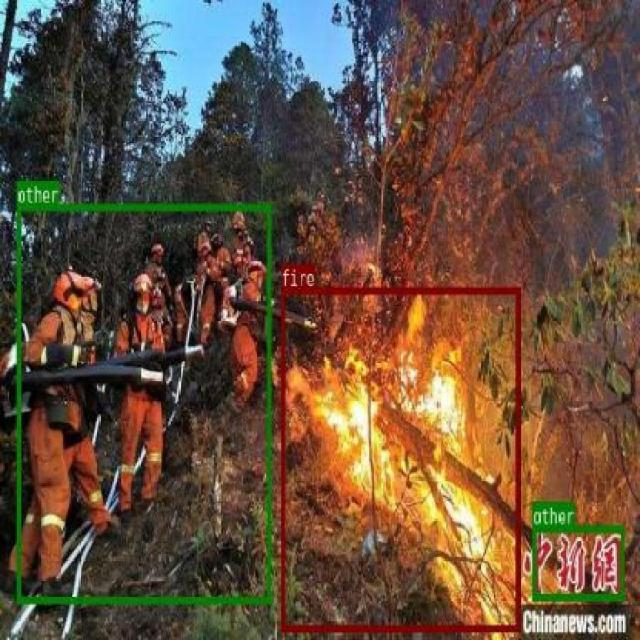fire: (280, 288, 520, 630)
